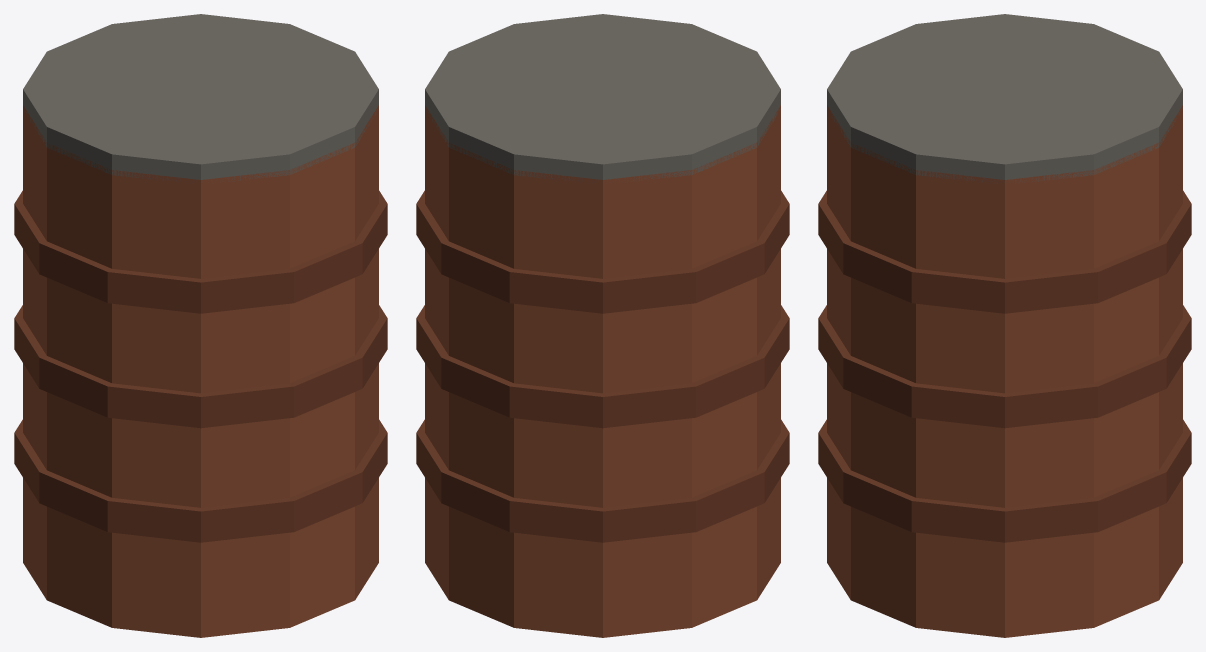
Rendered from P_OilDrum.glb.
The picture shows the model from 3 angles, left to right: view 1: azimuth 30°, elevation 25°; view 2: azimuth 150°, elevation 25°; view 3: azimuth 270°, elevation 25°; orthographic projection.
Parts seen in each view (by area): view 1: P_OilDrum; view 2: P_OilDrum; view 3: P_OilDrum.
Boxes of the visible parts, <box> form: P_OilDrum: <box>14,14,387,637</box>; P_OilDrum: <box>416,14,789,637</box>; P_OilDrum: <box>818,14,1191,637</box>.
Size of the model in its own units: 0.65 by 0.91 by 0.65.
